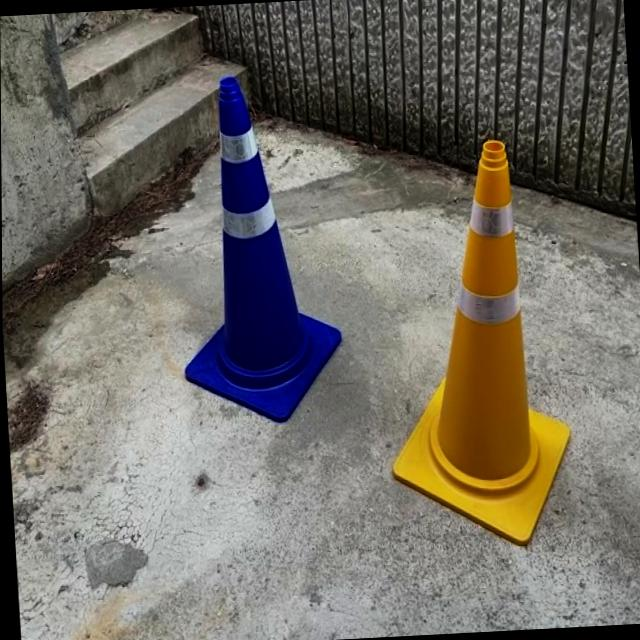b_rub: (185, 76, 341, 421)
y_rub: (394, 140, 571, 545)
